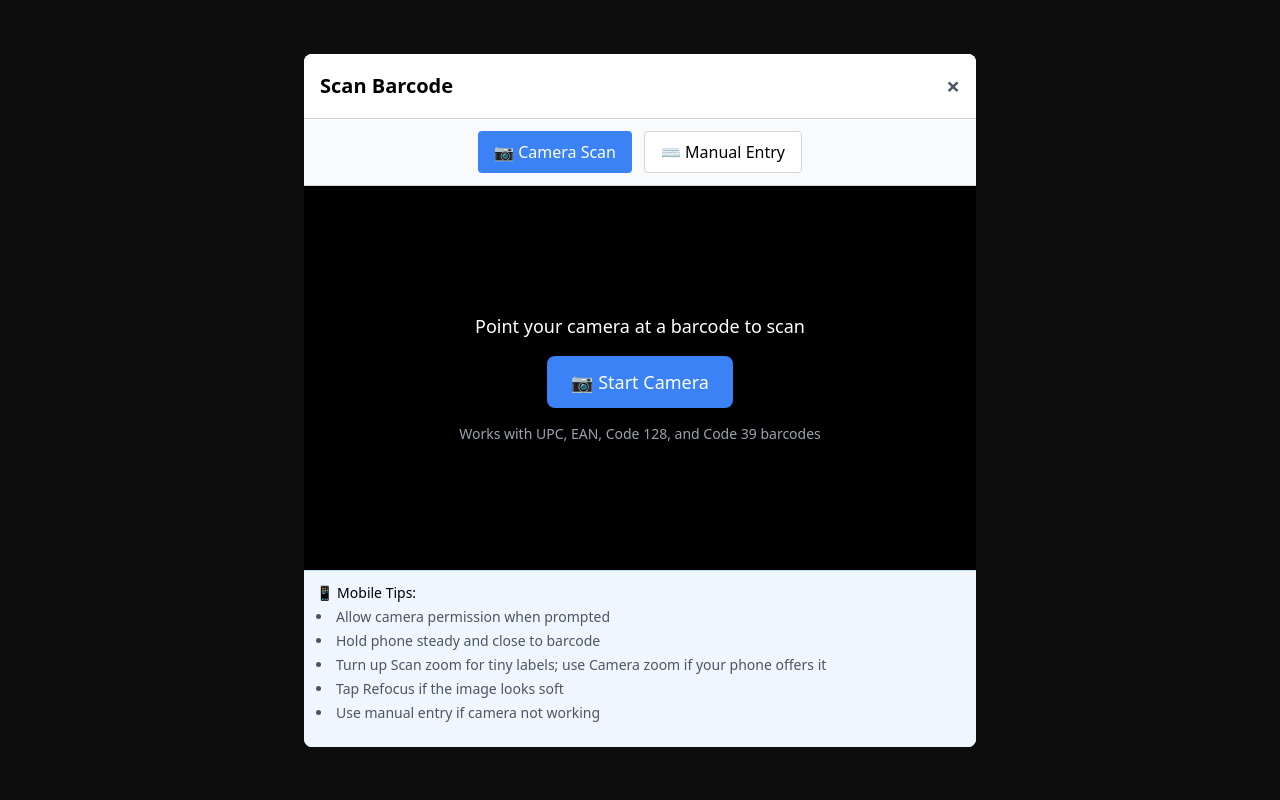
Test case: BarcodeScanner Component - Phase 2E Mobile Features › should switch to manual entry mode
Step 1. Click the button "⌨️ Manual Entry" → [723, 152], box [644,130,802,172]
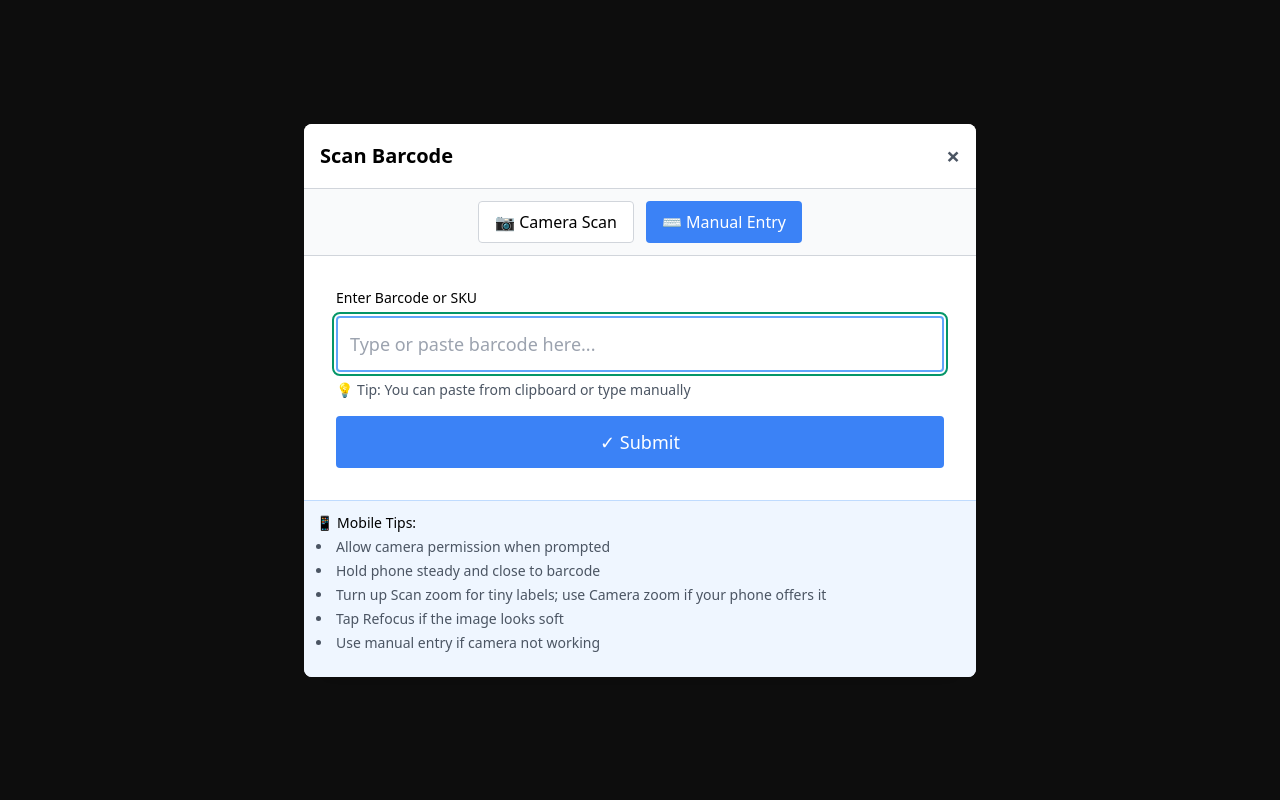
Check: the field with placeholder "Type or paste barcode here..." is shown, box [336,316,944,372]
